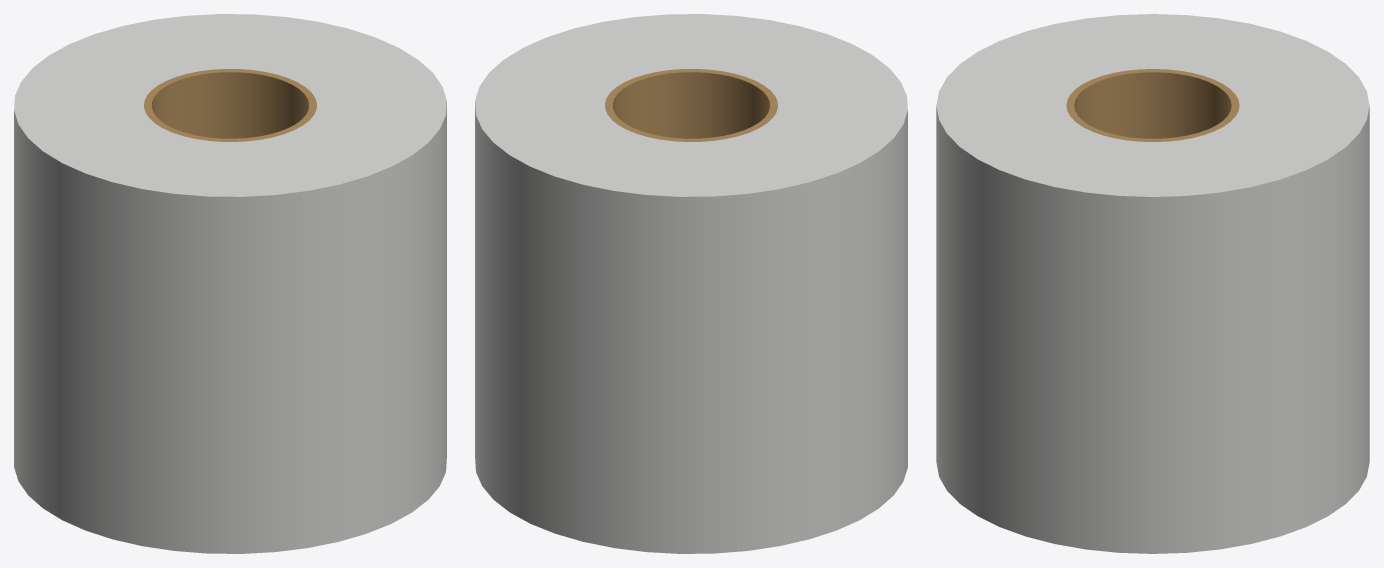
The model's file is papel_higienico_rolo.dae.
3 renders of one model, left to right at view 1: azimuth 30°, elevation 25°; view 2: azimuth 150°, elevation 25°; view 3: azimuth 270°, elevation 25°, orthographic.
Parts seen in each view (by area): view 1: Papel higienico - rolo (×2); view 2: Papel higienico - rolo (×2); view 3: Papel higienico - rolo (×2).
Boxes of the visible parts, <box> form: Papel higienico - rolo (×2): <box>14,14,446,553</box>; Papel higienico - rolo (×2): <box>475,14,907,553</box>; Papel higienico - rolo (×2): <box>936,14,1369,553</box>.
Size of the model in its own units: 110 by 110 by 100.
